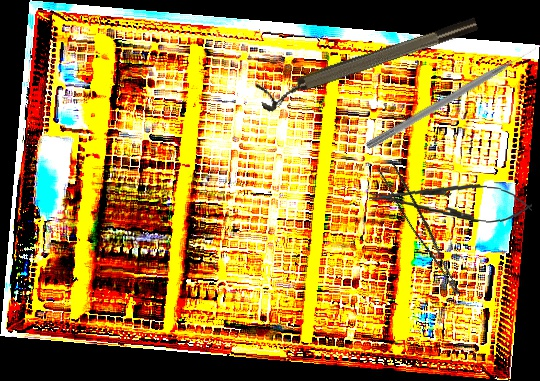Fixation Ring: (255, 12, 483, 115)
Needle Holder: (367, 176, 534, 226)
Pusher: (364, 44, 540, 153)
Tissue Forceps: (373, 159, 475, 296)
